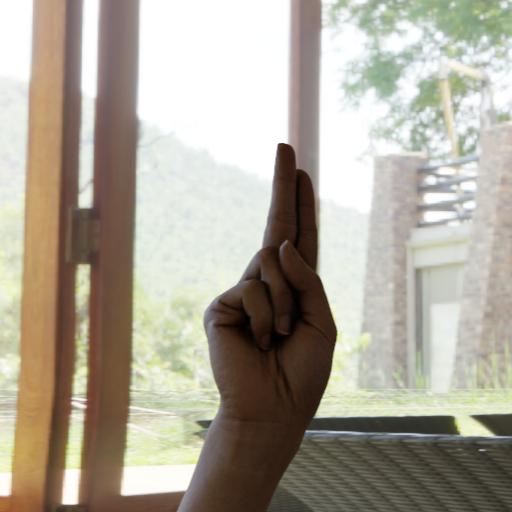U: (192, 136, 352, 439)
